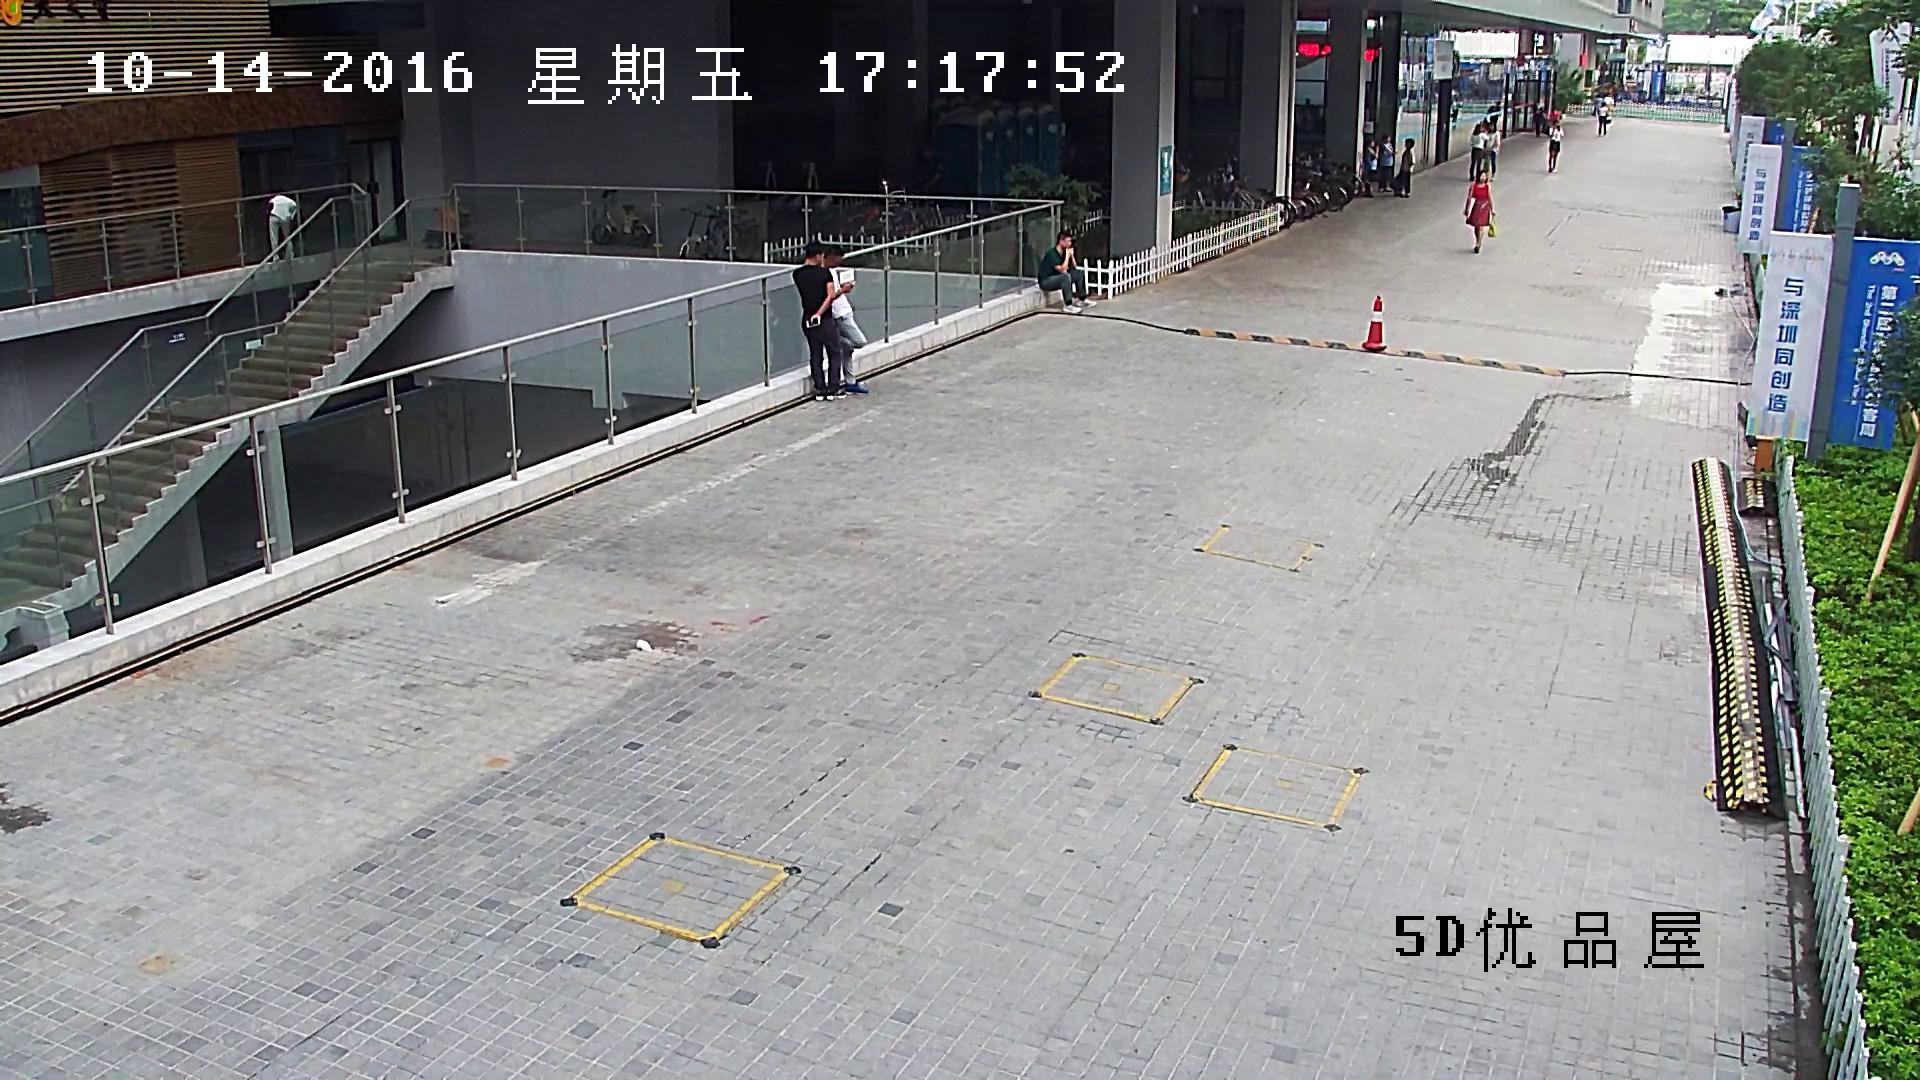person: (792, 240, 848, 400), (820, 244, 869, 392), (1037, 230, 1097, 313), (1463, 170, 1496, 253), (991, 229, 1034, 293), (265, 193, 299, 259), (1469, 123, 1488, 181), (1399, 137, 1416, 198), (1484, 121, 1501, 181), (1364, 138, 1381, 197), (1379, 134, 1396, 191), (1548, 118, 1564, 172), (1598, 101, 1611, 137), (1532, 97, 1544, 135)
